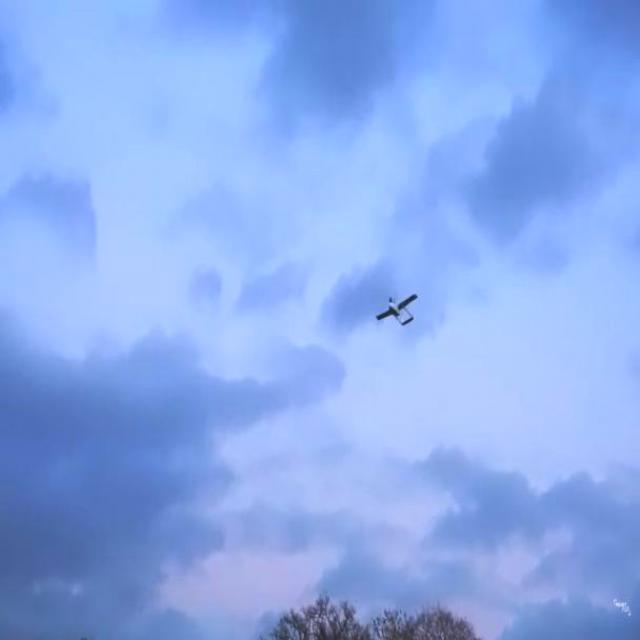iha: (363, 286, 414, 335)
